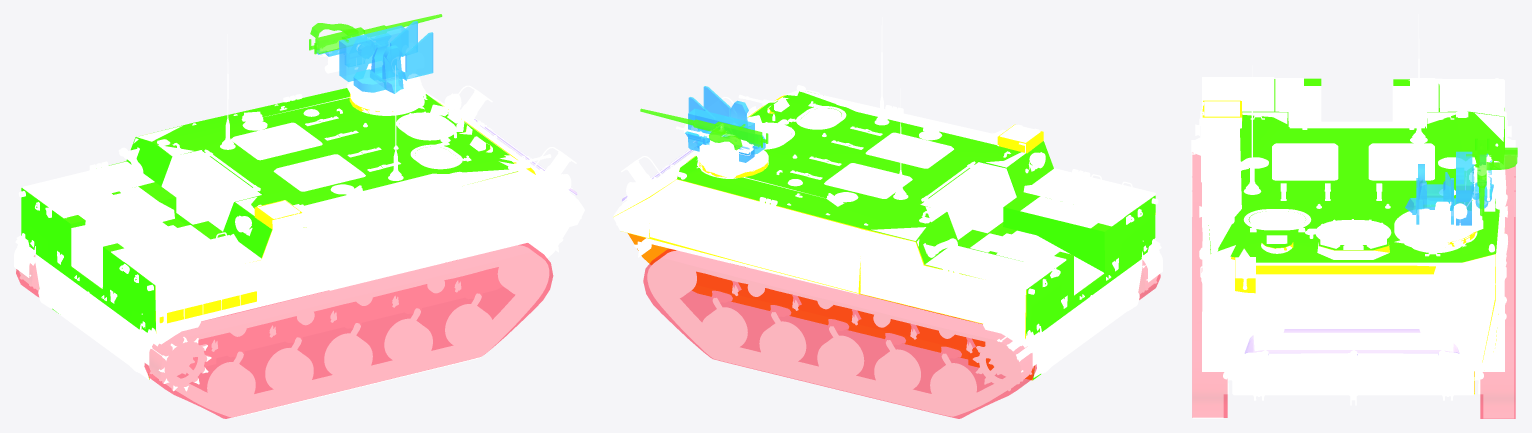
File: BTRMDM.gltf
3 views of the same model, side by side, from view 1: azimuth 30°, elevation 25°; view 2: azimuth 150°, elevation 25°; view 3: azimuth 270°, elevation 25° (orthographic). The views are drawn at different scales.
Visible parts, largest first — view 1: 36, BTRMDM_Tracks_Col_Right_115, 36_1, BTRMDM_Col_1, 36_3, crows_turret_col_103, 36_4, BTRMDM_Col_2, crows_m2_col_1; view 2: 36, BTRMDM_Tracks_Col_Left_112, 36_1, BTRMDM_Col_1, 36_2, BTRMDM_Col, 36_4, crows_turret_col_103, BTRMDM_Col_2, crows_m2_col_1; view 3: 36, 36_1, BTRMDM_Col_1, 36_4, BTRMDM_Tracks_Col_Left_112, BTRMDM_Tracks_Col_Right_115, 36_3, 36_2, BTRMDM_Col_2, crows_turret_col_103, BMD4M_WaterShield_Col2_79, crows_m2_col_1 (+2 smaller).
Boxes of the visible parts, left/top/right/bottom form: 36: left=19, top=93, right=584, bottom=411; BTRMDM_Tracks_Col_Right_115: left=144, top=243, right=553, bottom=418; 36_1: left=14, top=34, right=581, bottom=373; BTRMDM_Col_1: left=21, top=88, right=517, bottom=379; 36_3: left=149, top=245, right=549, bottom=417; crows_turret_col_103: left=339, top=21, right=433, bottom=93; 36_4: left=319, top=29, right=426, bottom=115; BTRMDM_Col_2: left=155, top=93, right=535, bottom=333; crows_m2_col_1: left=309, top=14, right=442, bottom=54; 36: left=613, top=90, right=1157, bottom=410; BTRMDM_Tracks_Col_Left_112: left=643, top=249, right=1036, bottom=418; 36_1: left=616, top=17, right=1162, bottom=373; BTRMDM_Col_1: left=677, top=91, right=1155, bottom=379; 36_2: left=647, top=250, right=1032, bottom=416; BTRMDM_Col: left=627, top=233, right=1034, bottom=380; 36_4: left=676, top=123, right=768, bottom=178; crows_turret_col_103: left=688, top=86, right=765, bottom=162; BTRMDM_Col_2: left=613, top=95, right=1155, bottom=338; crows_m2_col_1: left=640, top=108, right=768, bottom=150; 36: left=1191, top=79, right=1515, bottom=395; 36_1: left=1191, top=14, right=1515, bottom=405; BTRMDM_Col_1: left=1208, top=78, right=1504, bottom=262; 36_4: left=1394, top=154, right=1507, bottom=250; BTRMDM_Tracks_Col_Left_112: left=1480, top=166, right=1515, bottom=418; BTRMDM_Tracks_Col_Right_115: left=1192, top=154, right=1227, bottom=417; 36_3: left=1192, top=153, right=1223, bottom=418; 36_2: left=1483, top=167, right=1514, bottom=418; BTRMDM_Col_2: left=1202, top=100, right=1498, bottom=394; crows_turret_col_103: left=1405, top=151, right=1472, bottom=225; BMD4M_WaterShield_Col2_79: left=1244, top=329, right=1459, bottom=355; crows_m2_col_1: left=1466, top=138, right=1517, bottom=215.
Size of the model in its own units: 6.24 by 3.8 by 3.49.
